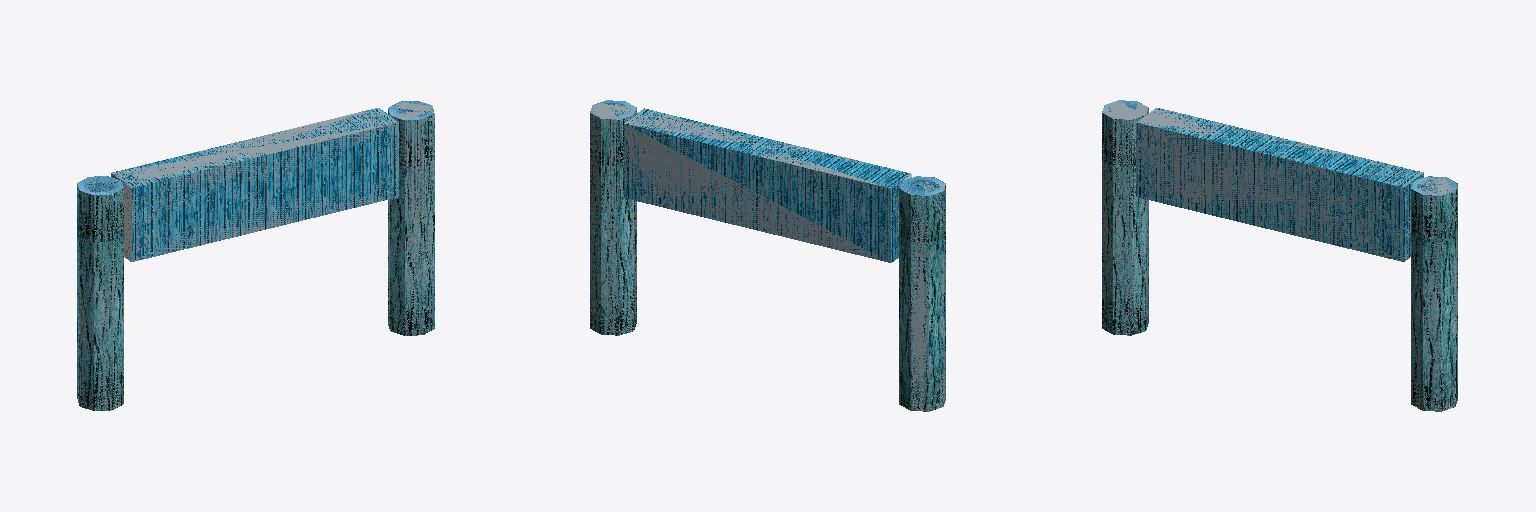
3 views of the same model, side by side, from view 1: azimuth 30°, elevation 25°; view 2: azimuth 150°, elevation 25°; view 3: azimuth 330°, elevation 25° (orthographic).
Visible parts, largest first — view 1: Mesh1 Model, Mesh2 Model; view 2: Mesh1 Model, Mesh2 Model; view 3: Mesh1 Model, Mesh2 Model.
Boxes of the visible parts, box(x1,y1,x2,y2) form: Mesh1 Model: box(77, 108, 398, 410); Mesh2 Model: box(388, 101, 434, 335); Mesh1 Model: box(624, 108, 945, 411); Mesh2 Model: box(590, 100, 636, 335); Mesh1 Model: box(1102, 100, 1423, 335); Mesh2 Model: box(1411, 176, 1457, 411).
Bounding box in the file's own units: 232 × 136 × 28.32.
5 materials, 3 textured.